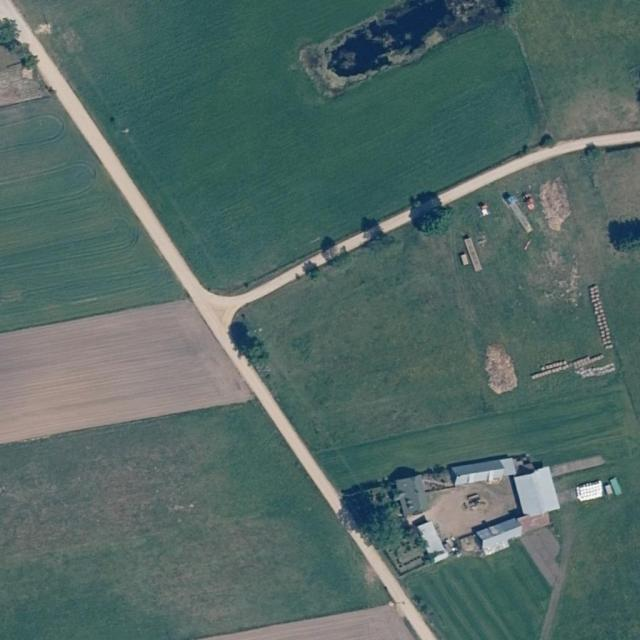agricultural_land: (0, 384, 387, 640)
unmetalled_road: (435, 118, 640, 205), (377, 208, 414, 235)
